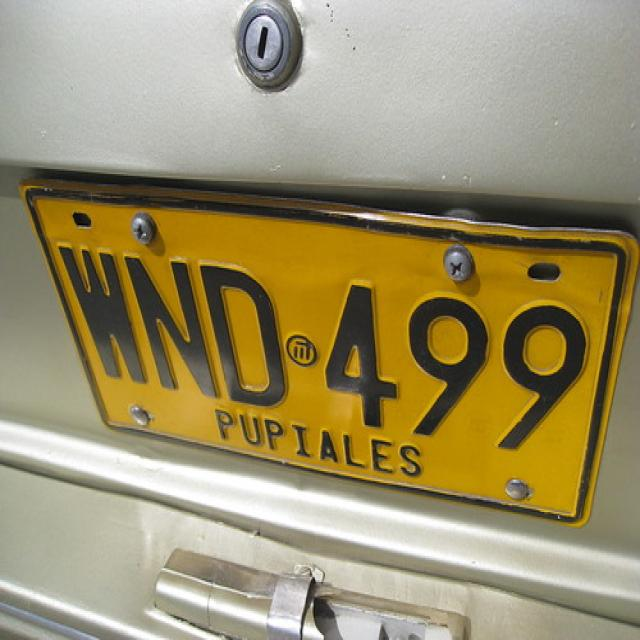placa_carro: (23, 192, 626, 536)
